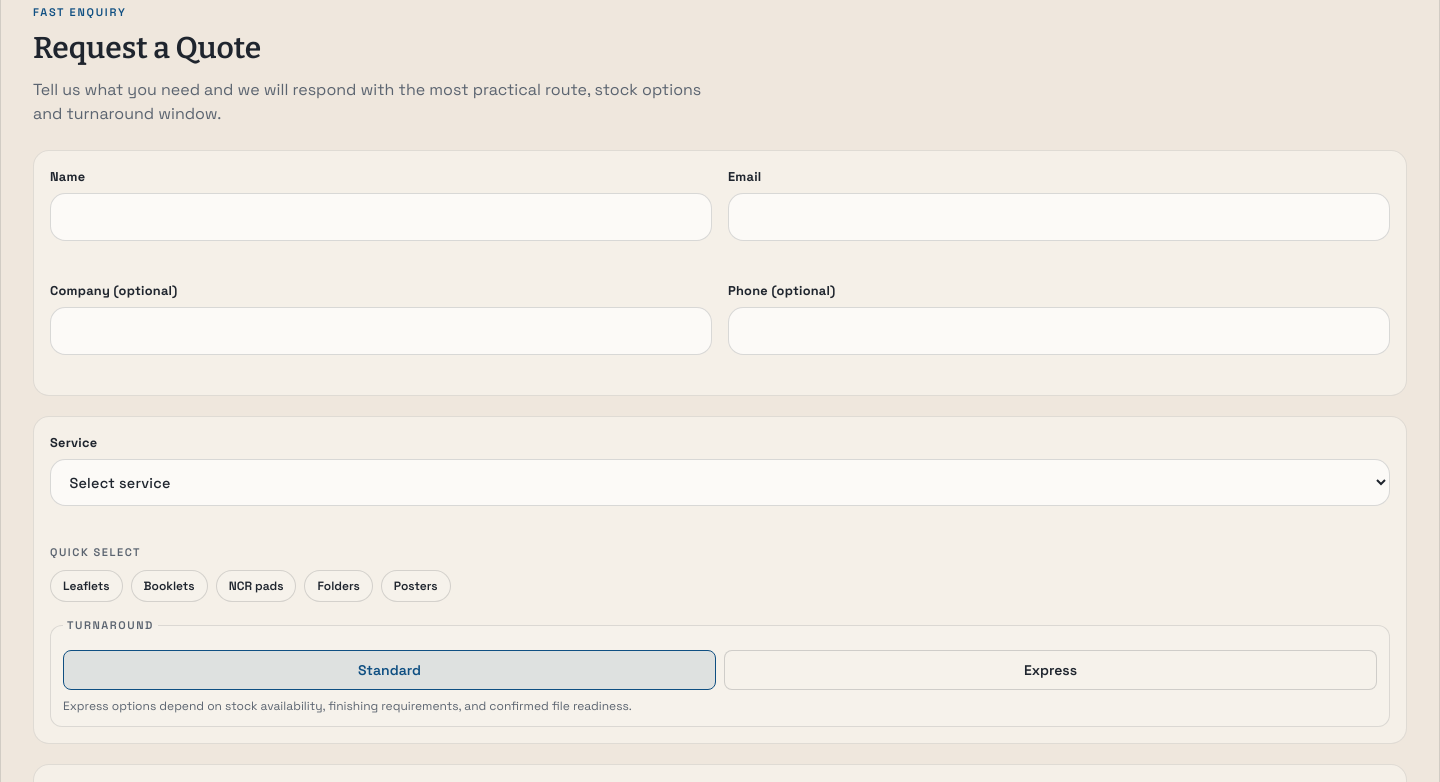
Test: Quote form › prefills from chips, validates required fields, and submits when valid
This screenshot has width=1440, height=782.
Step 1. Click the button "Leaflets" → x=86, y=586, box [50,570,123,602]
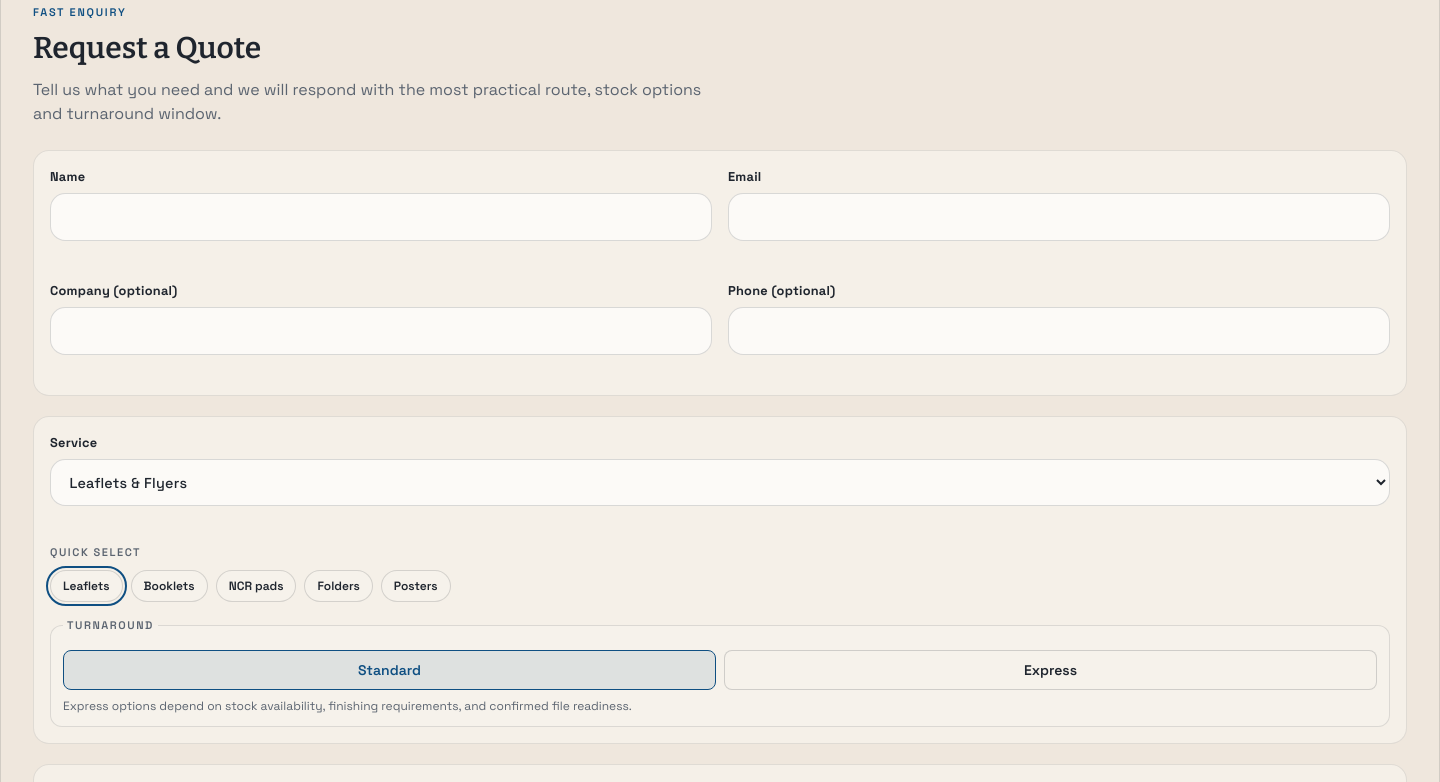
Result: the dropdown labelled "Service" shows "Leaflets & Flyers" at [50,459,1390,506]
Step 2. Type "Alex Carter" into the field labelled "Name" → x=381, y=217, box [50,193,712,241]
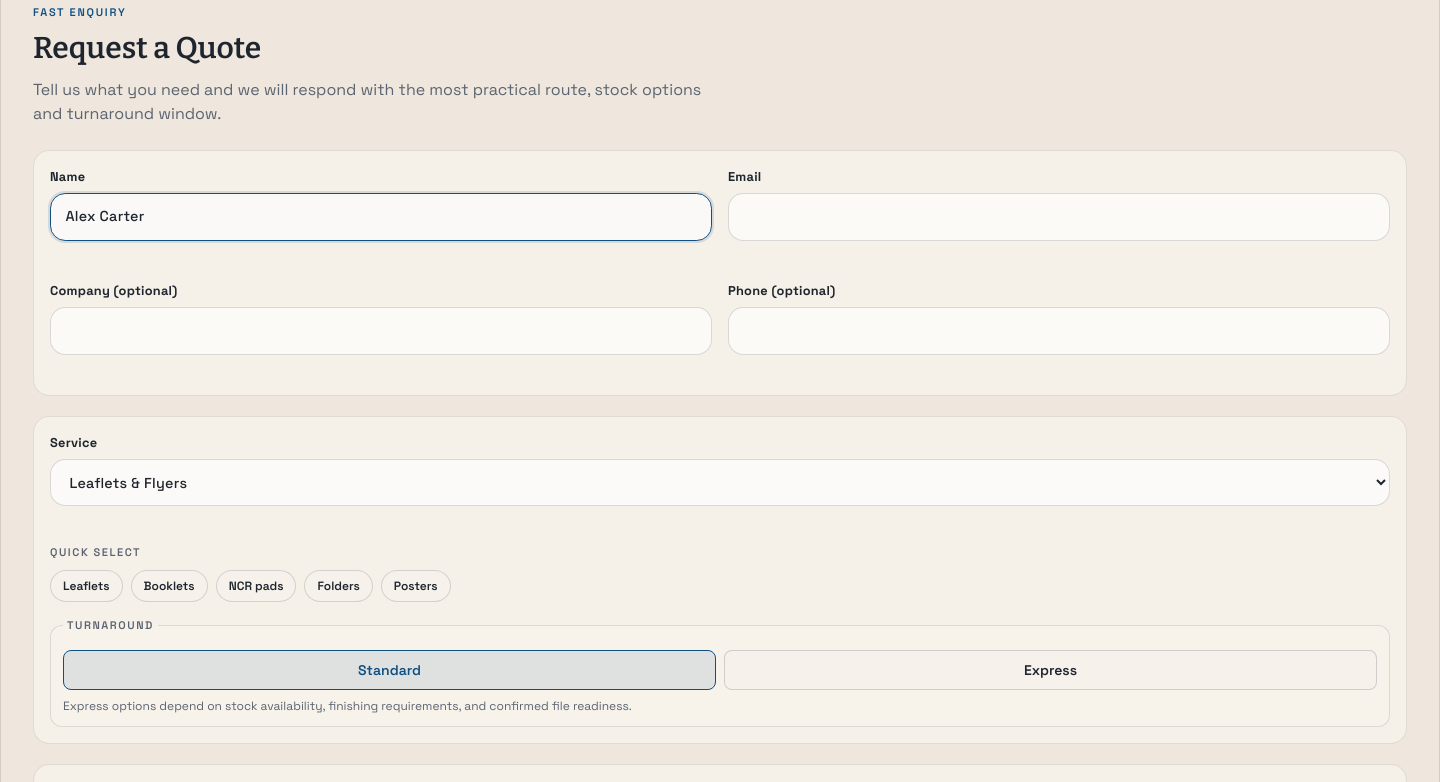
Step 3. Type "alex" into the field labelled "Email" → x=1059, y=217, box [728,193,1390,241]
(page scrolled)
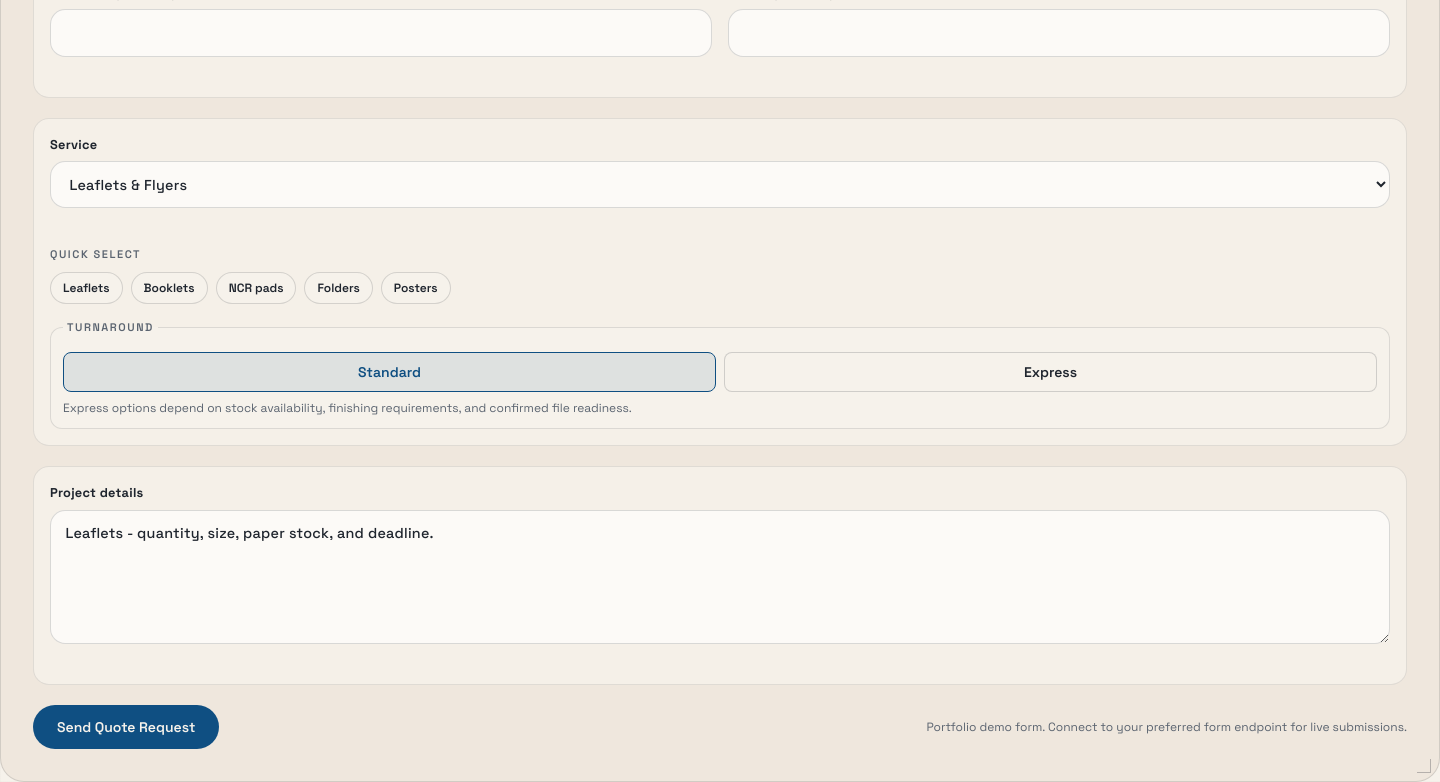
Result: the button "Send Quote Request" is enabled
Step 4. Click the button "Send Quote Request" → x=126, y=726, box [33,704,219,748]
(page scrolled)
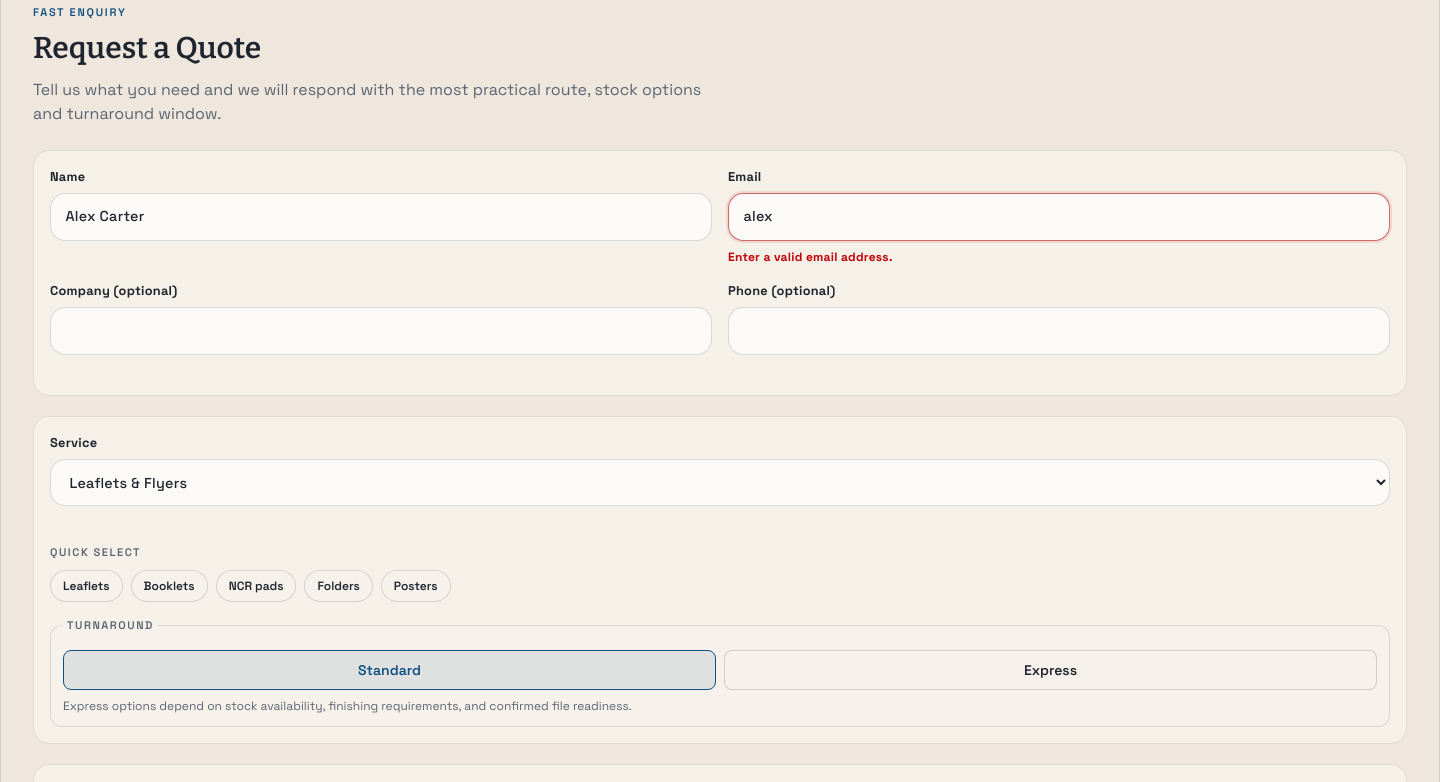
Result: the text "Enter a valid email address." is shown at [728,249,893,265]
Step 5. Replace the text in the field labelled "Email Enter a valid email address." with "alex@trentvalleyprintworks.co.uk" → x=1059, y=217, box [728,193,1390,241]
(page scrolled)
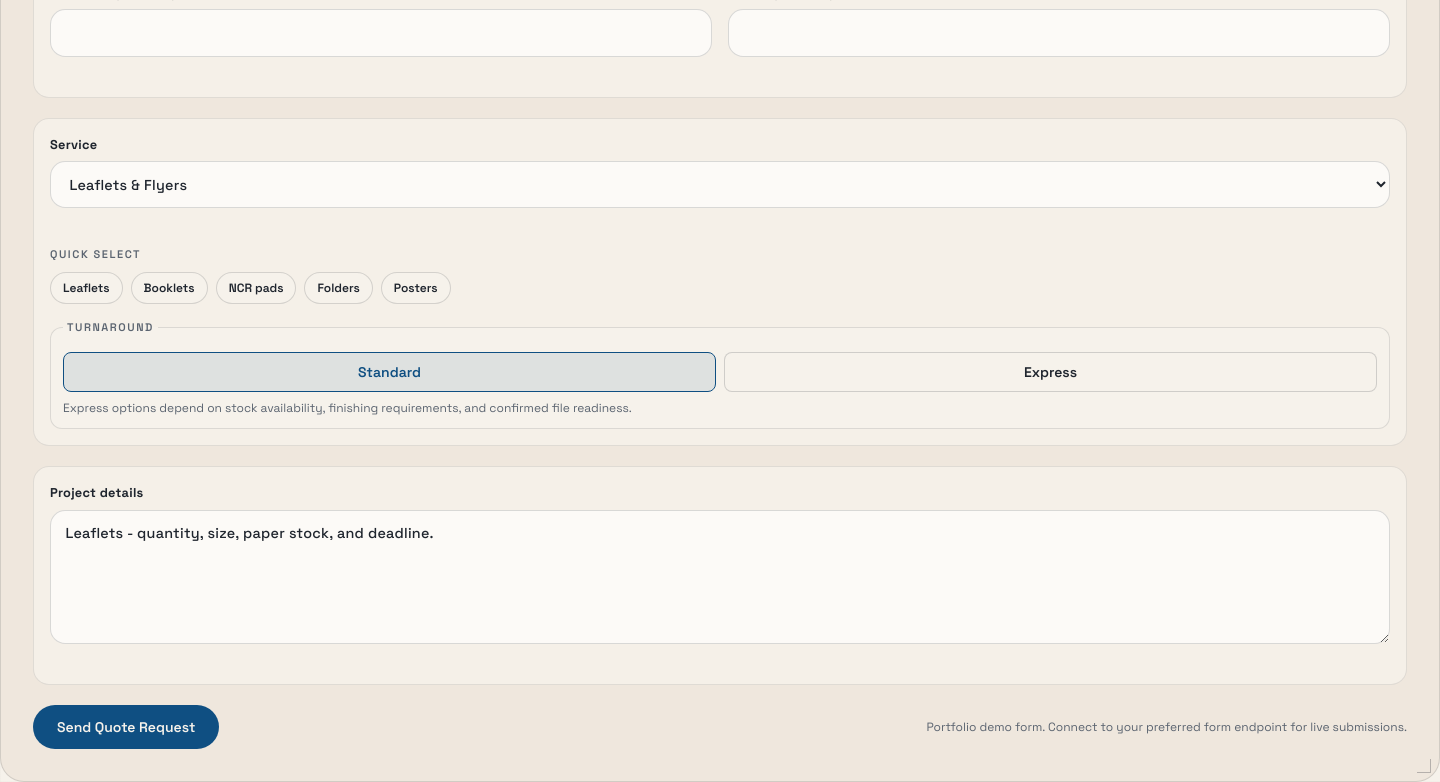
Step 6. Click the button "Send Quote Request" → x=126, y=726, box [33,704,219,748]
(page scrolled)
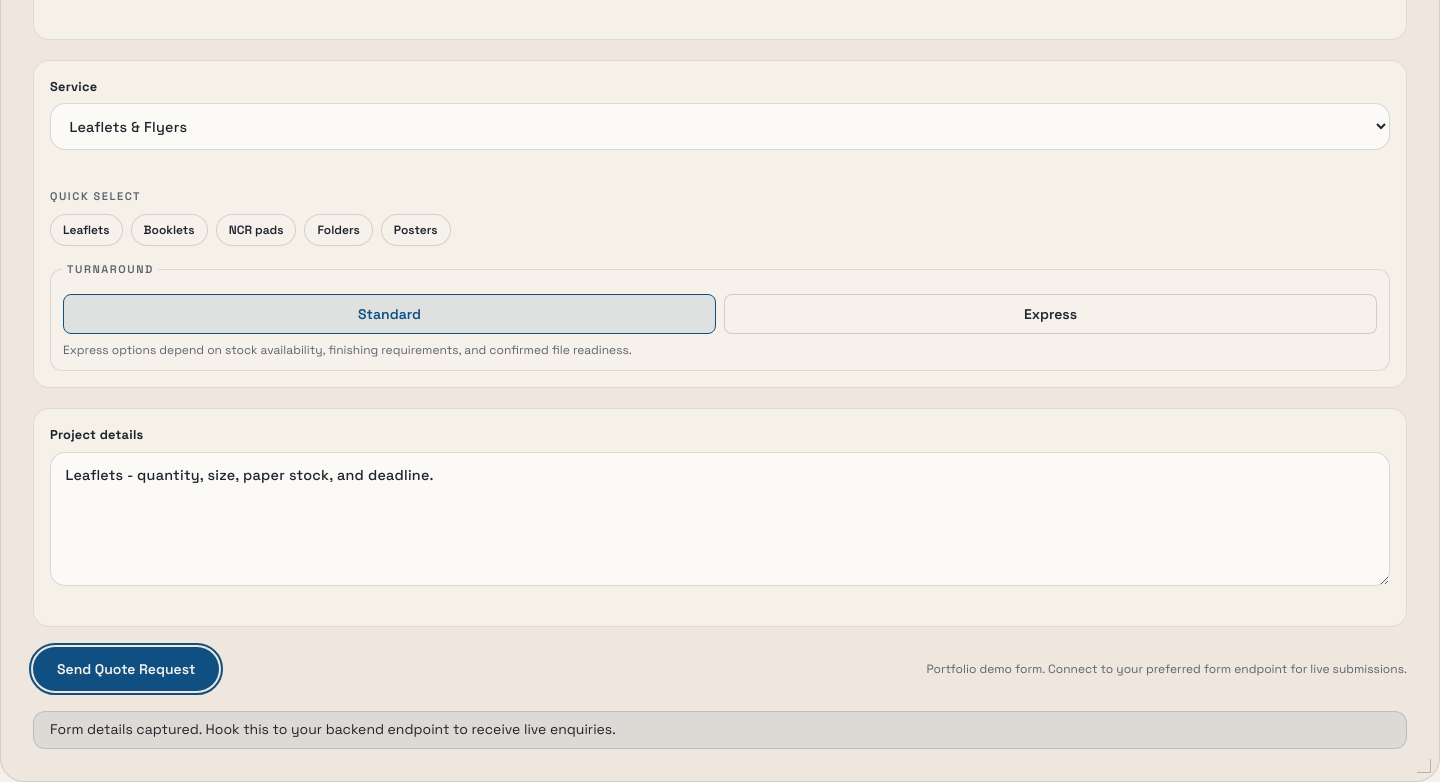
Result: the text "Form details captured. Hook this to your backend endpoint to receive live enquiries." is shown at [50,720,616,738]
